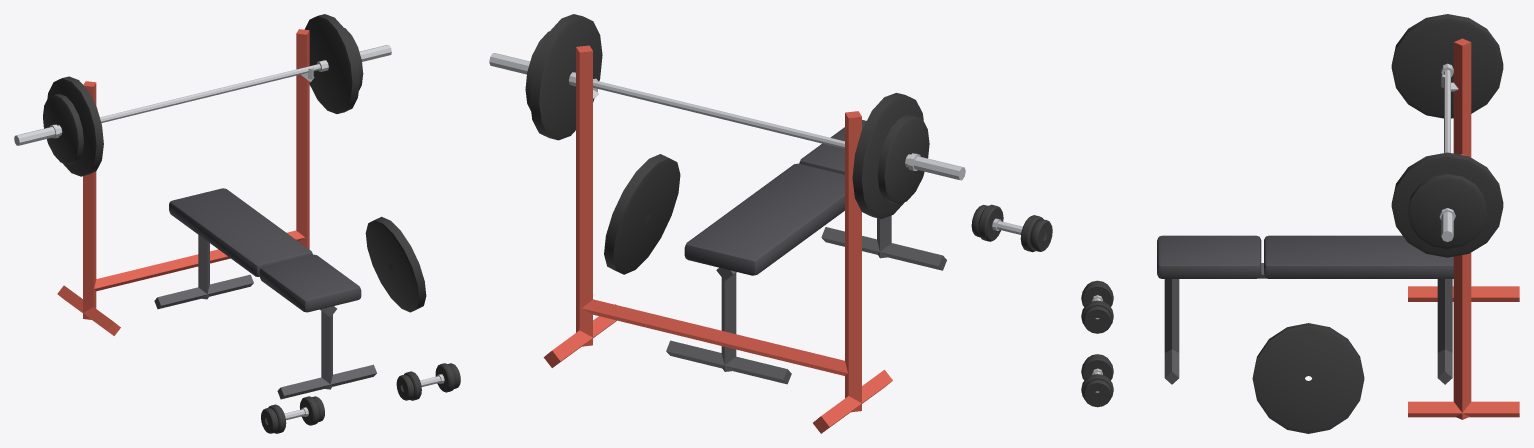
The model's file is prop_weights.glb.
3 views of the same model, side by side, from view 1: azimuth 30°, elevation 25°; view 2: azimuth 150°, elevation 25°; view 3: azimuth 270°, elevation 25° (orthographic). The views are drawn at different scales.
Parts seen in each view (by area): view 1: Weights; view 2: Weights; view 3: Weights.
Boxes of the visible parts, left/top/right/bottom form: Weights: left=14, top=14, right=460, bottom=433; Weights: left=489, top=14, right=1052, bottom=433; Weights: left=1081, top=14, right=1519, bottom=433.
Size of the model in its own units: 1.92 by 1.22 by 1.77.
